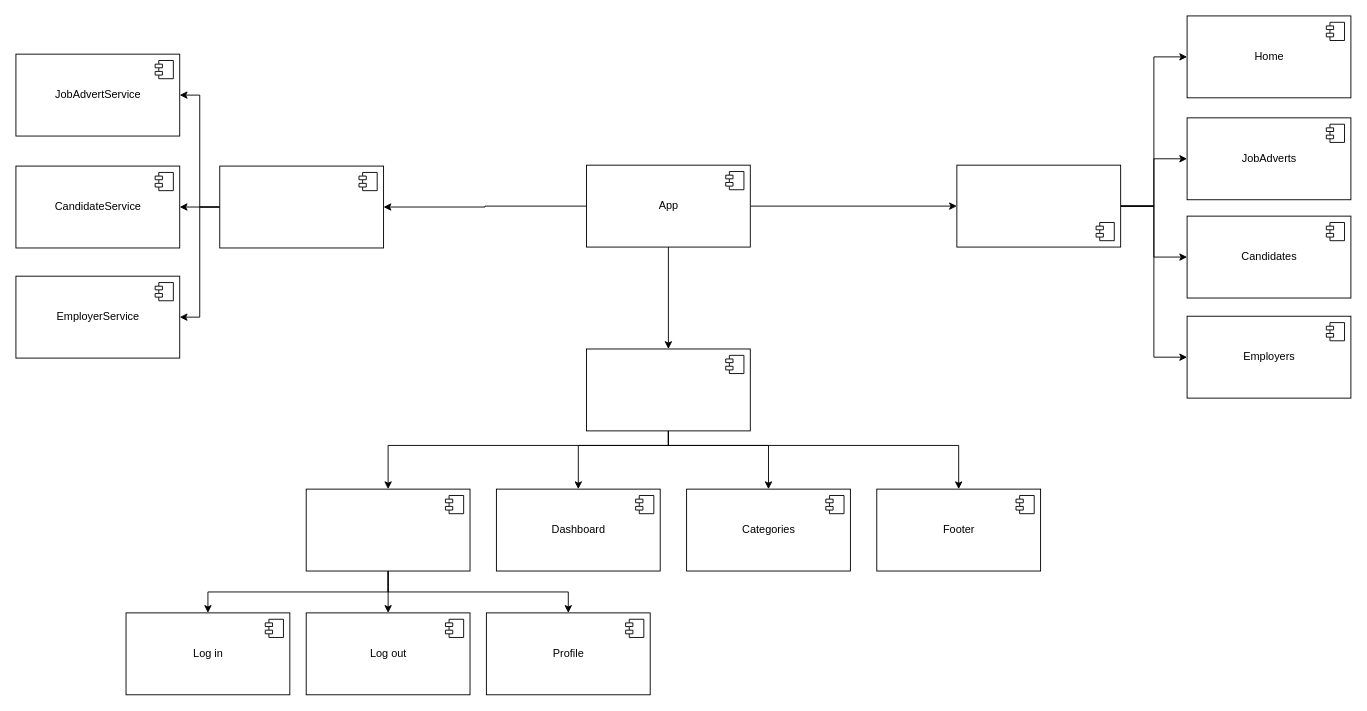
Image size: 1367x711. Some labels were removed from this diagram. The centre of each missing label's shape, as x and y in pixels:
"Layouts" belongs at [668,389].
"Navi" belongs at [387,529].
"Pages" belongs at [1038,205].
"Services" belongs at [301,206].
